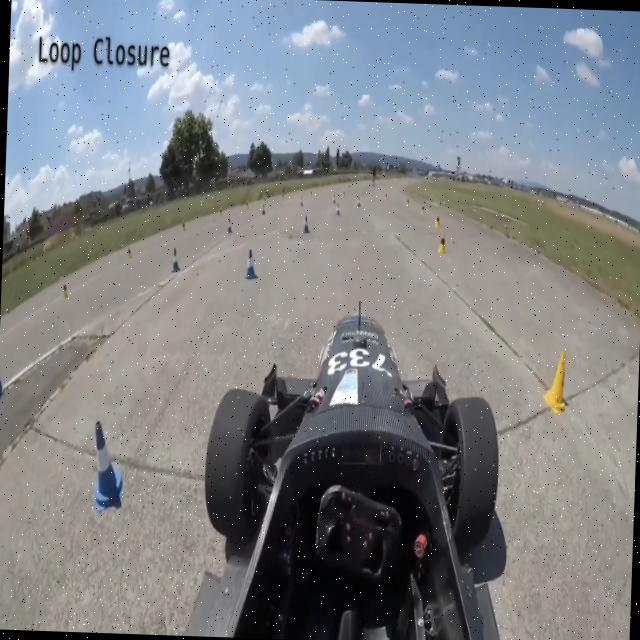blue_cone: (93, 419, 127, 512), (246, 248, 258, 280), (172, 246, 180, 272), (303, 214, 310, 234)
yellow_cone: (542, 347, 568, 413), (438, 230, 448, 254)
